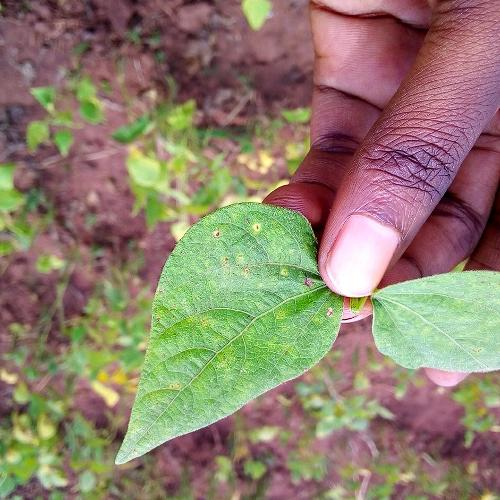embun tepung: (200, 211, 296, 295)
